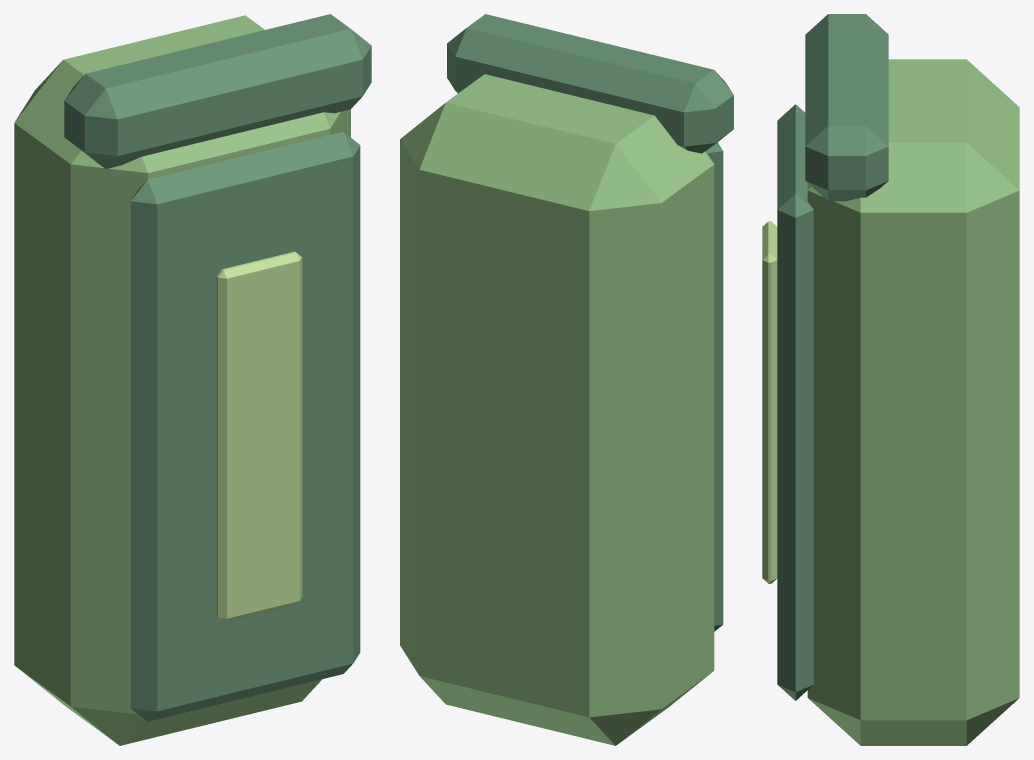
The model's file is FTF_Equipment_PlantFiberLegArmor_Left.glb.
3 renders of one model, left to right at view 1: azimuth 30°, elevation 25°; view 2: azimuth 150°, elevation 25°; view 3: azimuth 270°, elevation 25°, orthographic. The views are drawn at different scales.
Parts seen in each view (by area): view 1: ShinOuterRim_L, ShinShell_L, ShinAccent_L, ShinTopCap_L; view 2: ShinShell_L, ShinTopCap_L, ShinOuterRim_L; view 3: ShinShell_L, ShinOuterRim_L, ShinTopCap_L, ShinAccent_L.
Boxes of the visible parts, left/top/right/bottom form: ShinOuterRim_L: left=130, top=132, right=360, bottom=721; ShinShell_L: left=14, top=15, right=350, bottom=745; ShinAccent_L: left=216, top=251, right=302, bottom=621; ShinTopCap_L: left=64, top=14, right=371, bottom=168; ShinShell_L: left=400, top=74, right=714, bottom=745; ShinTopCap_L: left=447, top=14, right=733, bottom=153; ShinOuterRim_L: left=706, top=142, right=723, bottom=631; ShinShell_L: left=807, top=59, right=1019, bottom=745; ShinOuterRim_L: left=777, top=104, right=813, bottom=700; ShinTopCap_L: left=805, top=14, right=888, bottom=201; ShinAccent_L: left=762, top=221, right=777, bottom=583.
Size of the model in its own units: 0.205 by 0.4625 by 0.17.
